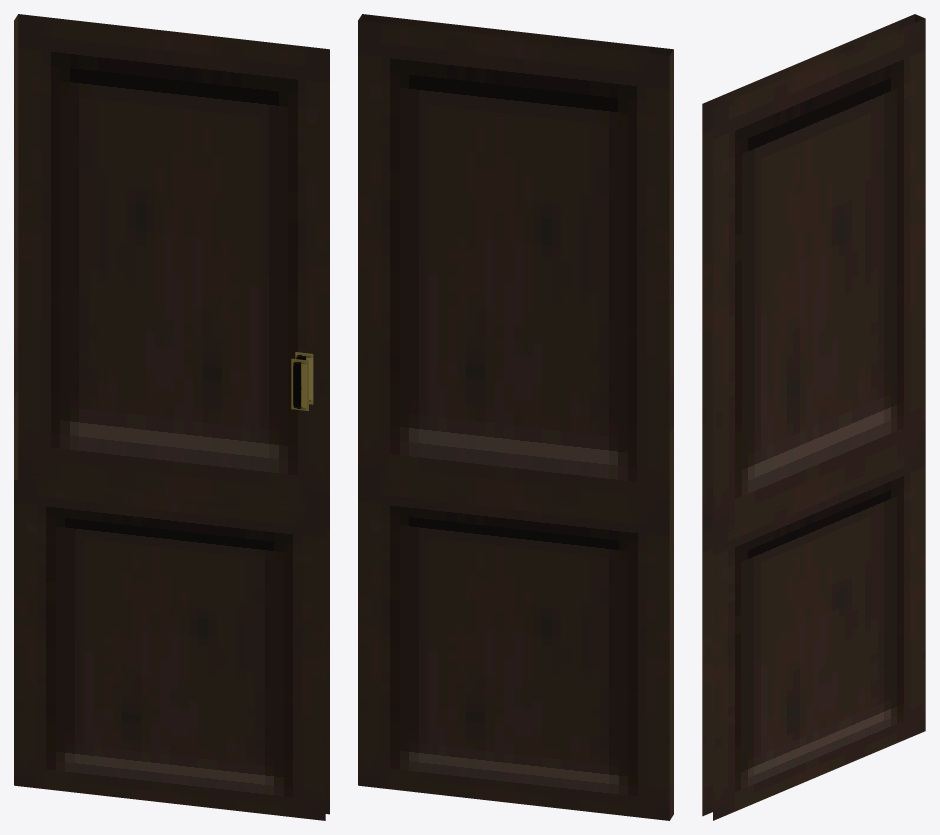
Rendered from wooden_door_8.glb.
3 renders of one model, left to right at view 1: azimuth 30°, elevation 25°; view 2: azimuth 210°, elevation 25°; view 3: azimuth 270°, elevation 25°, orthographic. The views are drawn at different scales.
Parts seen in each view (by area): view 1: Object; view 2: Object; view 3: Object.
Part boxes in pixels (box(x1,y1,x2,y2)): Object: box(14, 14, 329, 820); Object: box(358, 14, 673, 820); Object: box(702, 14, 925, 820).
Size of the model in its own units: 0.7907 by 2.79 by 0.7907.
7 materials, 7 textured.
